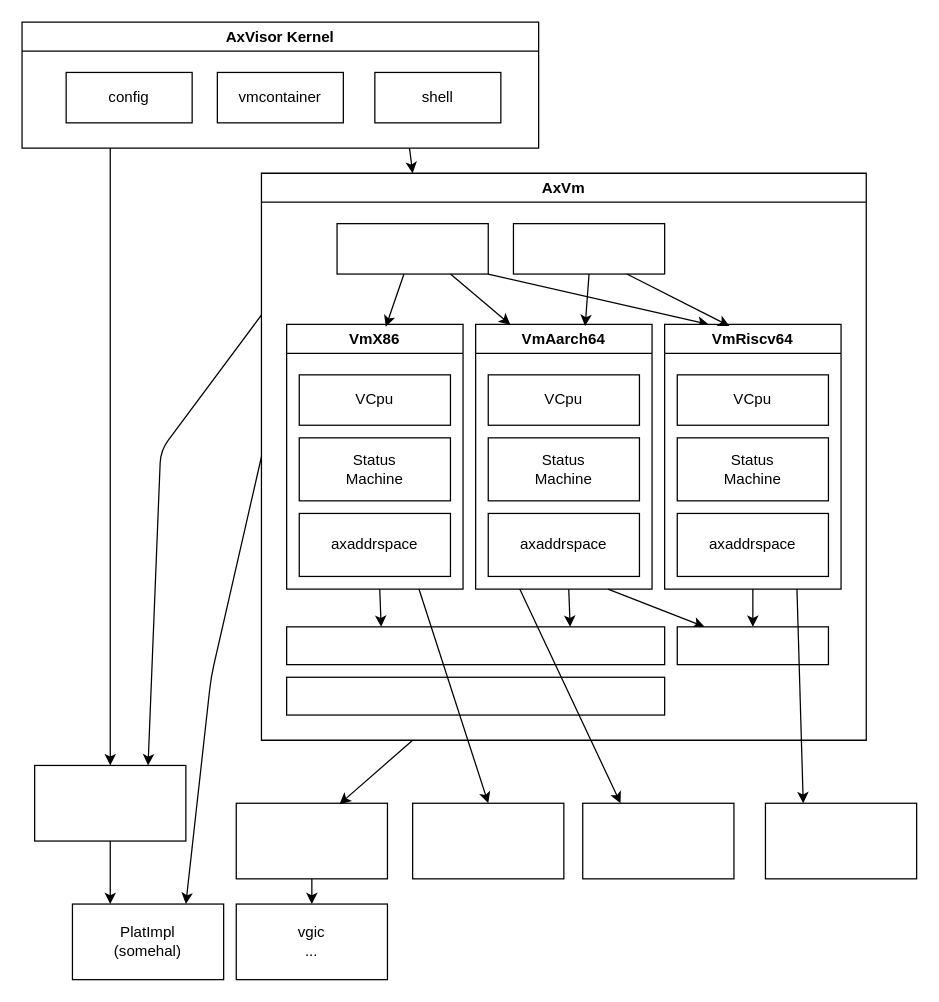
Image size: 939x1002. Some labels were removed from this diagram. Here are the shapes that lost their labels. From the top down, the centre of each, then its label:
At point 412,248: "image load".
At point 588,248: "cache flush".
At point 475,645: "VmTrait".
At point 752,645: "device tree".
At point 475,695: "VmCommon".
At point 109,802: "ArceOS".
At point 311,840: "AxDevice".
At point 487,840: "x86_vcpu".
At point 657,840: "arm _vcpu".
At point 840,840: "riscv _vcpu".
